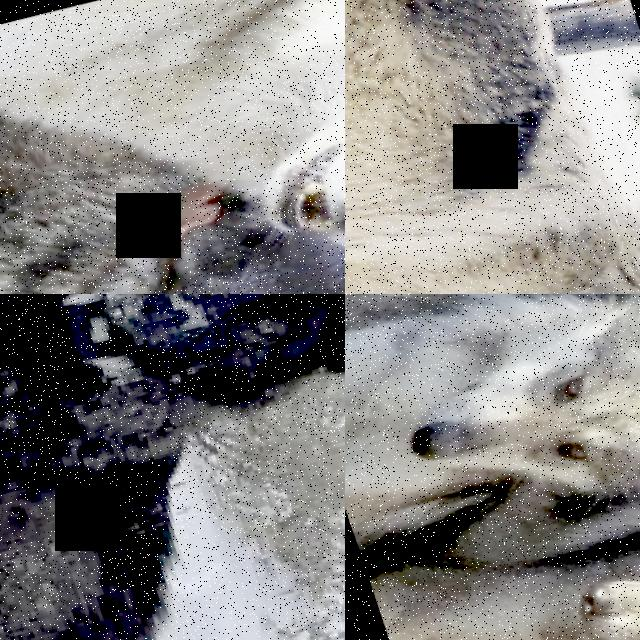wolf: (0, 294, 345, 640), (0, 0, 345, 294), (345, 0, 640, 294), (345, 294, 640, 572), (345, 419, 640, 640), (0, 214, 345, 294)
